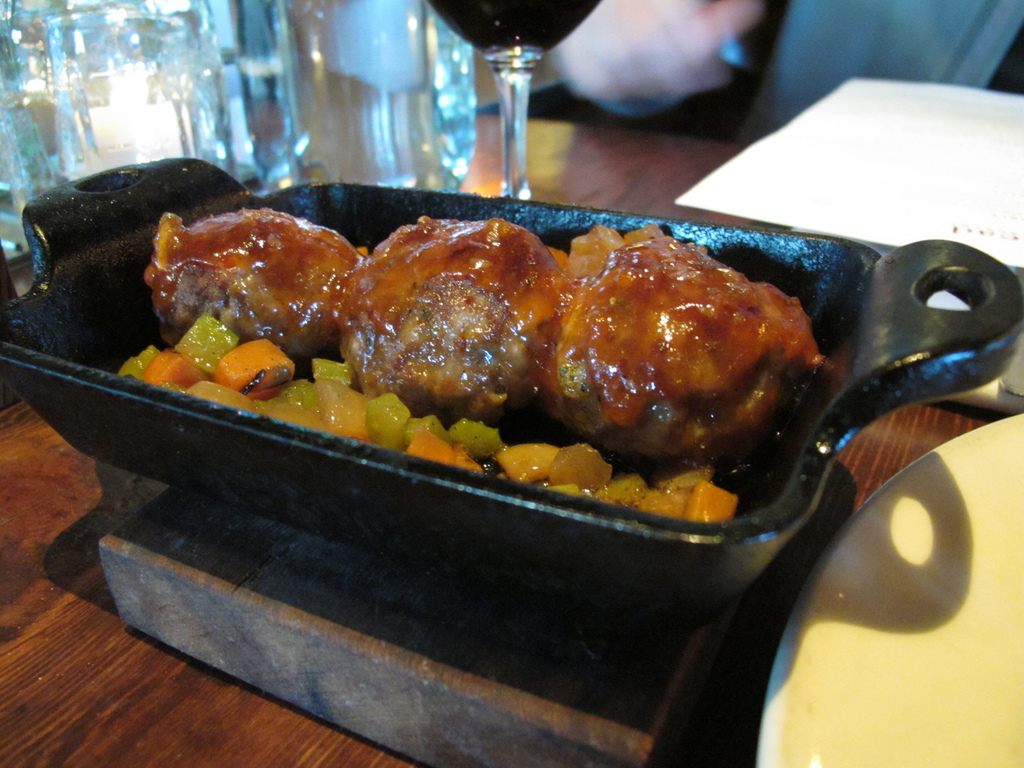meatballs: (551, 244, 795, 436), (357, 221, 543, 400), (145, 206, 336, 359)
